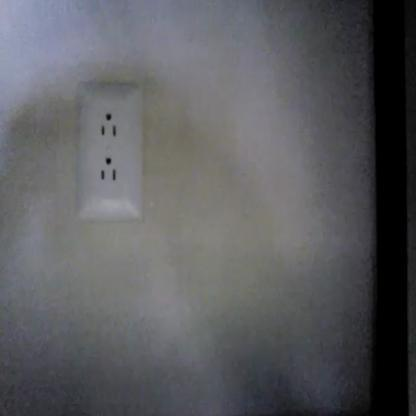OUTLET: (74, 78, 143, 224)
